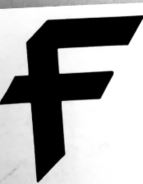Fisher: (1, 15, 142, 184)
